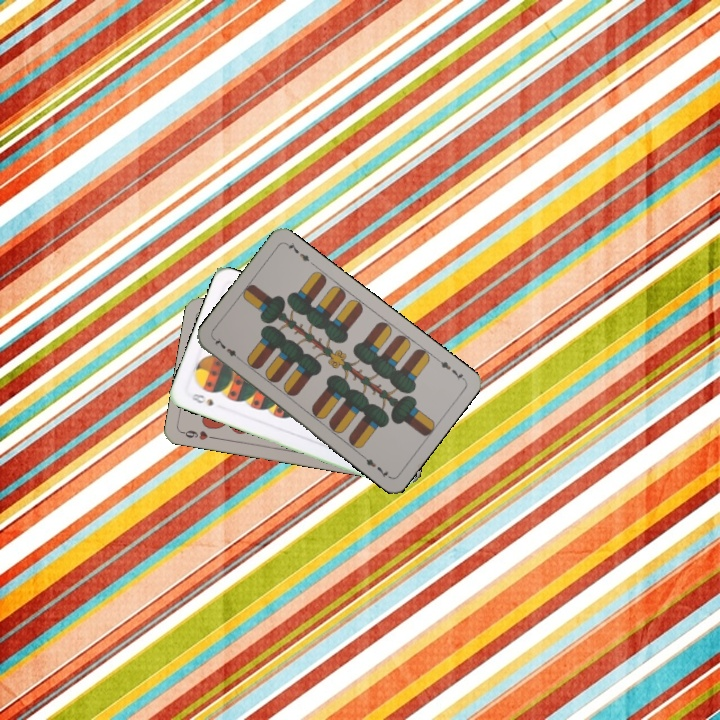E7: (210, 333, 244, 363), (432, 354, 467, 383)
H9: (178, 426, 219, 443)
S8: (186, 389, 216, 409)
